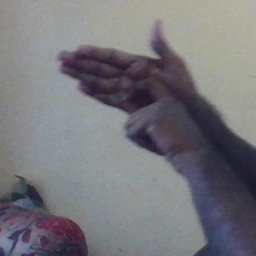R: (60, 19, 199, 150)
